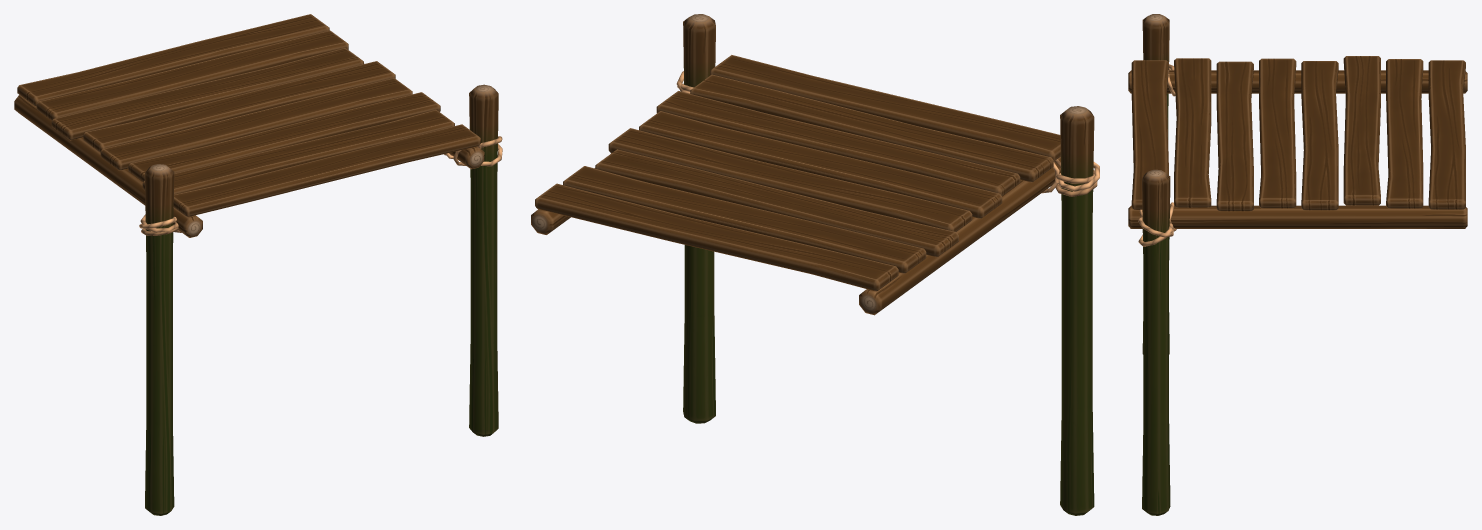
File: End.2.fbx
3 renders of one model, left to right at view 1: azimuth 30°, elevation 25°; view 2: azimuth 150°, elevation 25°; view 3: azimuth 270°, elevation 25°, orthographic. The views are drawn at different scales.
Parts seen in each view (by area): view 1: End.2; view 2: End.2; view 3: End.2.
Part boxes in pixels (x1=…): End.2: x1=14, y1=14, x2=502, y2=515; End.2: x1=531, y1=14, x2=1099, y2=515; End.2: x1=1128, y1=14, x2=1467, y2=515.
Bounding box in the file's own units: 241 × 220 × 200.
